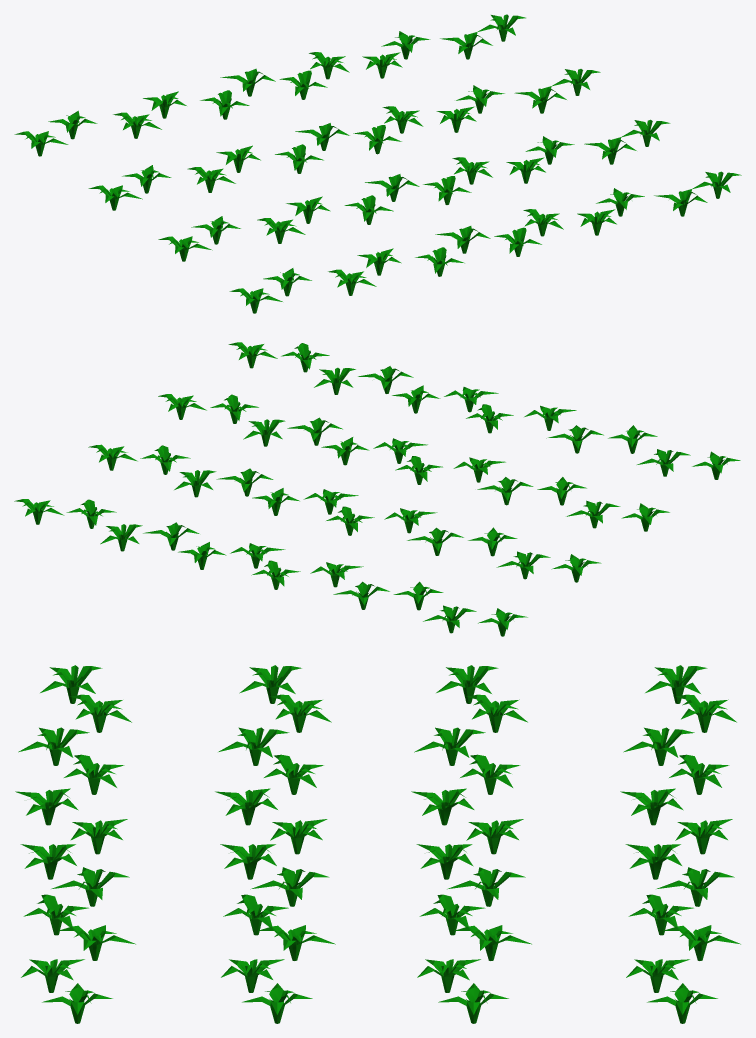
Rendered from Wheat_F1.fbx.
3 renders of one model, top to bottom at view 1: azimuth 30°, elevation 25°; view 2: azimuth 150°, elevation 25°; view 3: azimuth 270°, elevation 25°, orthographic. The views are drawn at different scales.
Visible parts, largest first — view 1: Wheat_F1; view 2: Wheat_F1; view 3: Wheat_F1.
Boxes of the visible parts, left/top/right/bottom form: Wheat_F1: left=14, top=14, right=741, bottom=313; Wheat_F1: left=14, top=342, right=740, bottom=636; Wheat_F1: left=15, top=665, right=740, bottom=1023.
Bounding box in the file's own units: 223 × 9.54 × 197.
